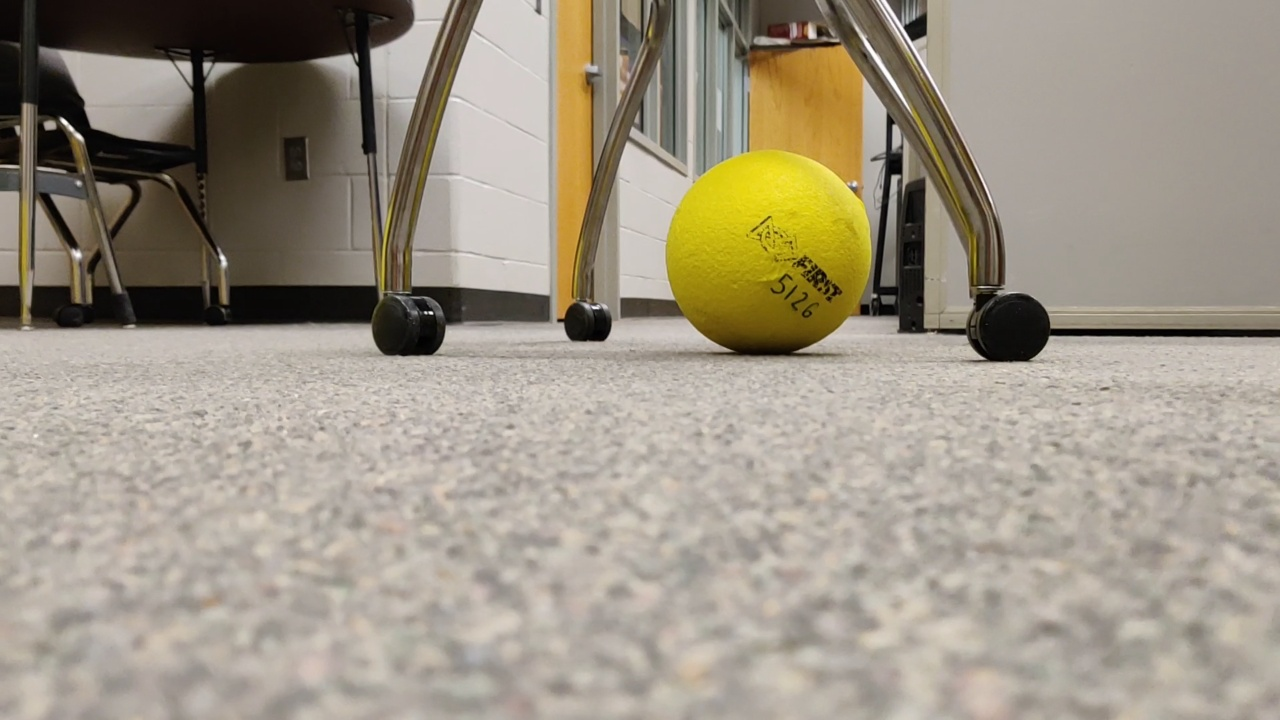Ball: (657, 145, 883, 357)
